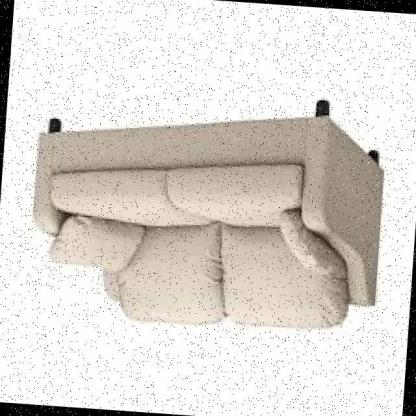Sofa: (0, 62, 416, 352)
